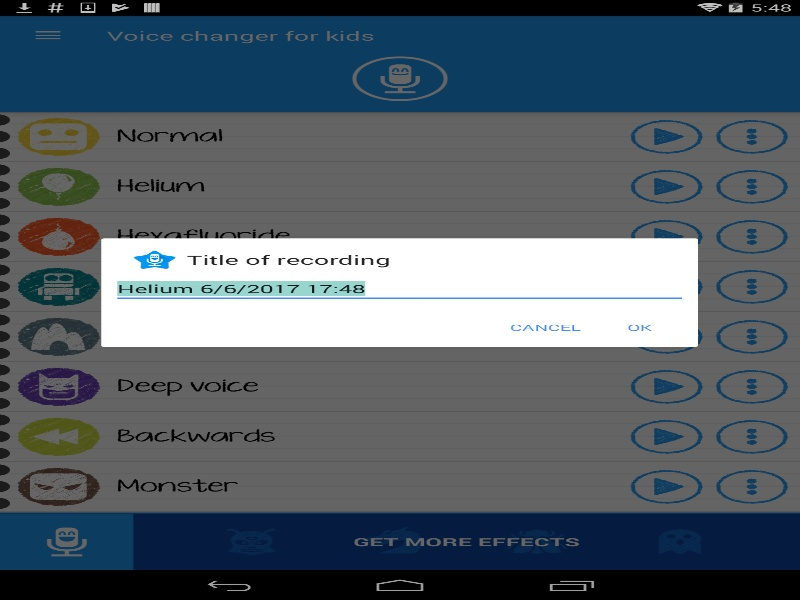Button: (494, 310, 596, 344), (596, 310, 682, 344)
Input: (112, 274, 687, 303)
